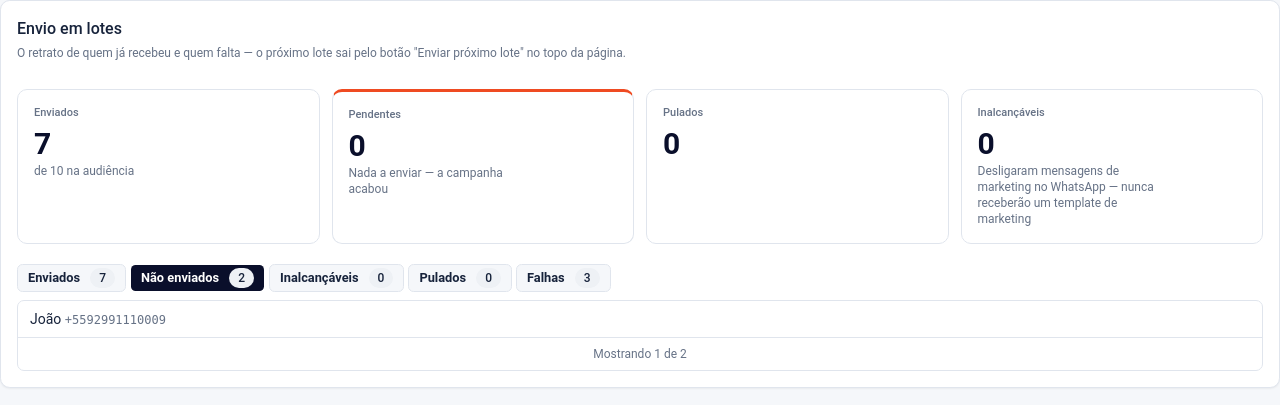
Test: BatchPanel — falhas (F2) › com a aba aberta, o badge passa a ser o total da PRÓPRIA lista
Click the button "Falhas 3" at (563, 278), box x1=516 y1=264 x2=610 y2=292
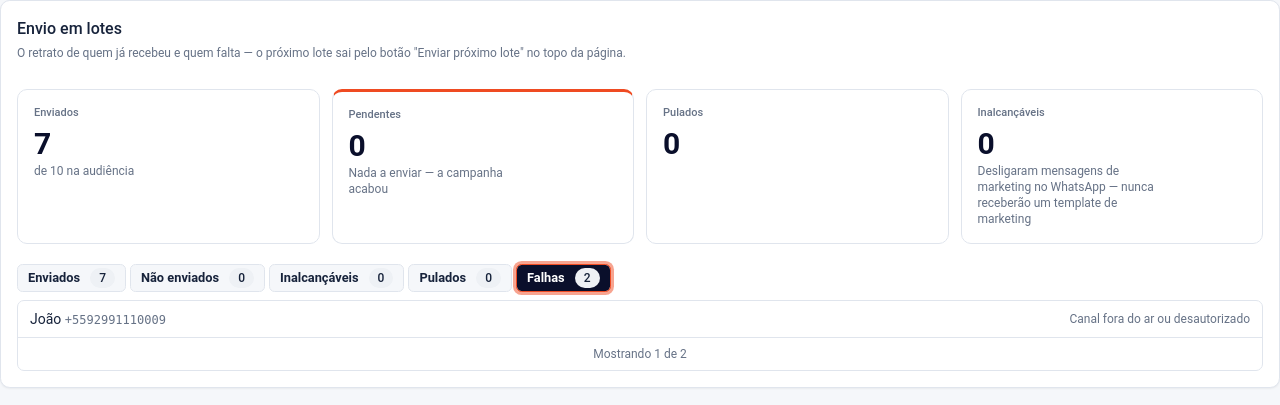
Result: the button "Falhas 2" is shown at x1=516 y1=264 x2=610 y2=292
